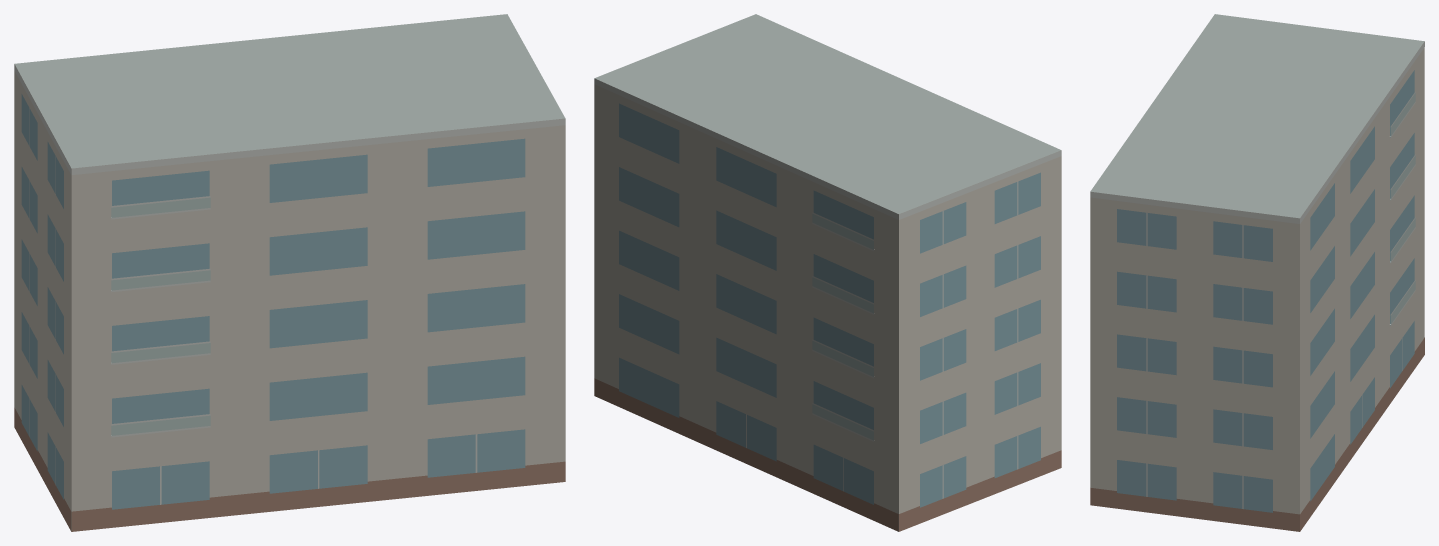
File: survey-upis-32880057.glb
3 renders of one model, left to right at view 1: azimuth 30°, elevation 25°; view 2: azimuth 150°, elevation 25°; view 3: azimuth 270°, elevation 25°, orthographic. The views are drawn at different scales.
Visible parts, largest first — view 1: survey-upis-32880057.tmp; view 2: survey-upis-32880057.tmp; view 3: survey-upis-32880057.tmp.
Part boxes in pixels (x1,y1,x2,y2): survey-upis-32880057.tmp: [14, 14, 565, 531]; survey-upis-32880057.tmp: [594, 14, 1061, 531]; survey-upis-32880057.tmp: [1090, 14, 1424, 531].
Bounding box in the file's own units: 18.53 × 13.25 × 12.83.
